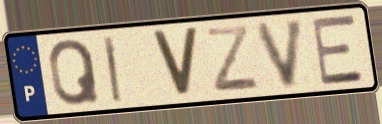E: (309, 12, 367, 88)
I: (101, 33, 124, 105)
Q: (47, 37, 103, 109)
V: (253, 15, 308, 92), (148, 27, 201, 100)
Z: (203, 23, 262, 94)
